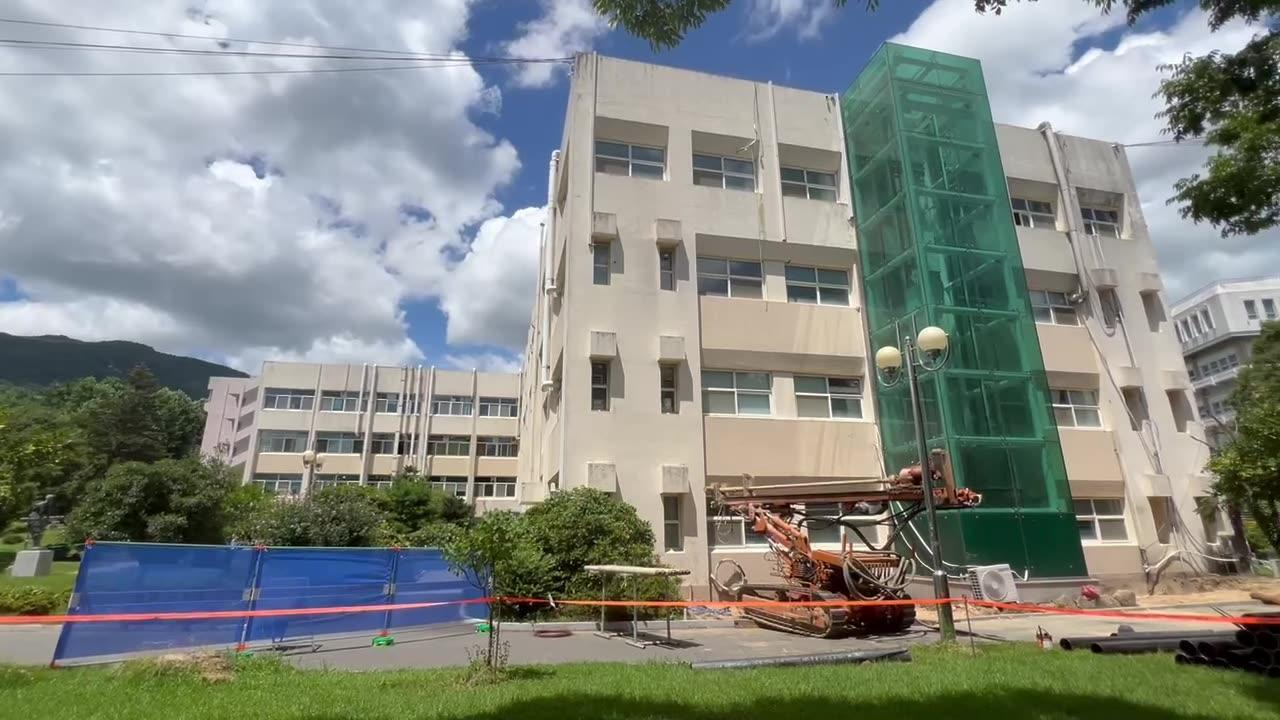building: (568, 74, 1185, 488)
